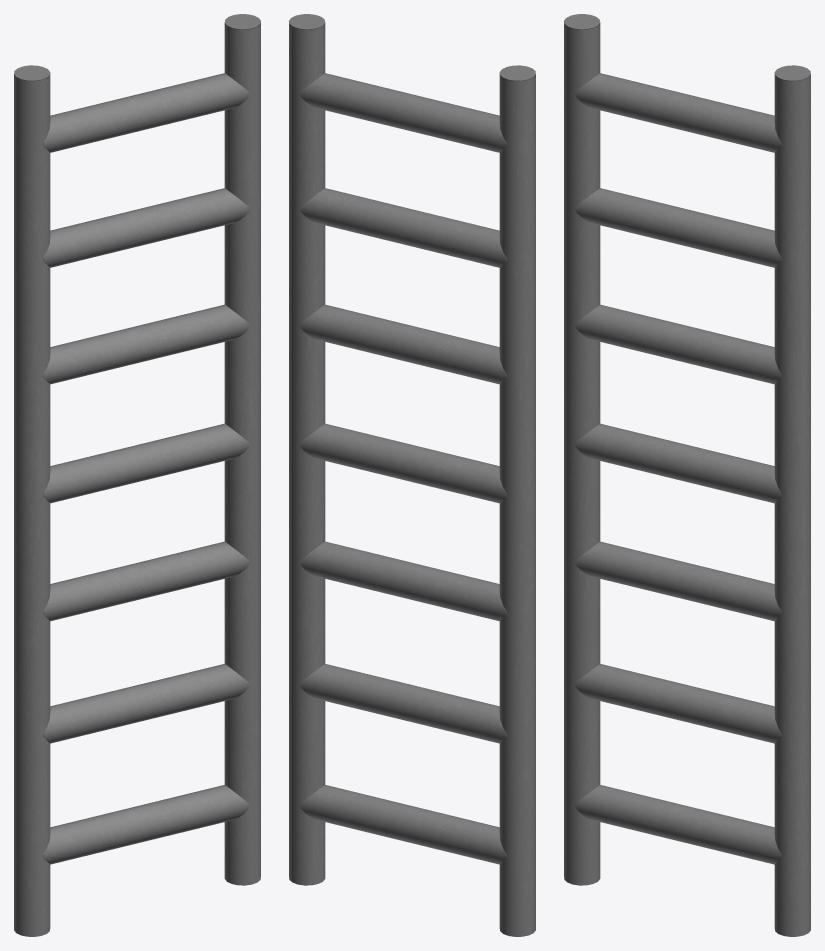
File: Ladder Textured.fbx
The picture shows the model from 3 angles, left to right: view 1: azimuth 30°, elevation 25°; view 2: azimuth 150°, elevation 25°; view 3: azimuth 330°, elevation 25°; orthographic projection.
Parts seen in each view (by area): view 1: pCylinder10; view 2: pCylinder10; view 3: pCylinder10.
Boxes of the visible parts, bbox=[...] form: pCylinder10: bbox=[14, 14, 260, 936]; pCylinder10: bbox=[289, 14, 535, 936]; pCylinder10: bbox=[564, 14, 810, 936].
Size of the model in its own units: 2.35 by 7.93 by 0.3069.
1 material, 1 textured.
